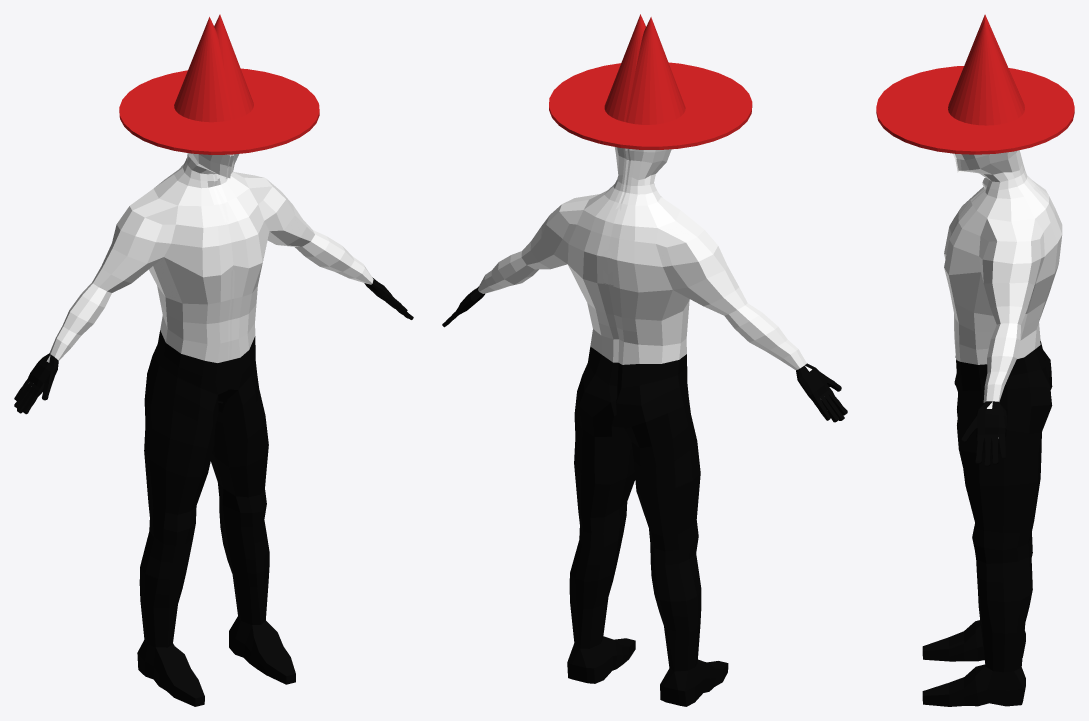
The model's file is enemy.fbx.
3 views of the same model, side by side, from view 1: azimuth 30°, elevation 25°; view 2: azimuth 150°, elevation 25°; view 3: azimuth 270°, elevation 25° (orthographic).
Parts seen in each view (by area): view 1: Cylinder; view 2: Cylinder; view 3: Cylinder.
Part boxes in pixels (<box>): Cylinder: <box>14,14,413,706</box>; Cylinder: <box>442,14,847,706</box>; Cylinder: <box>876,14,1074,706</box>.
Size of the model in its own units: 113 by 180 by 48.86.
